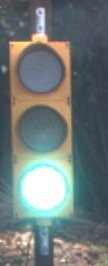Green: (3, 28, 82, 238)
